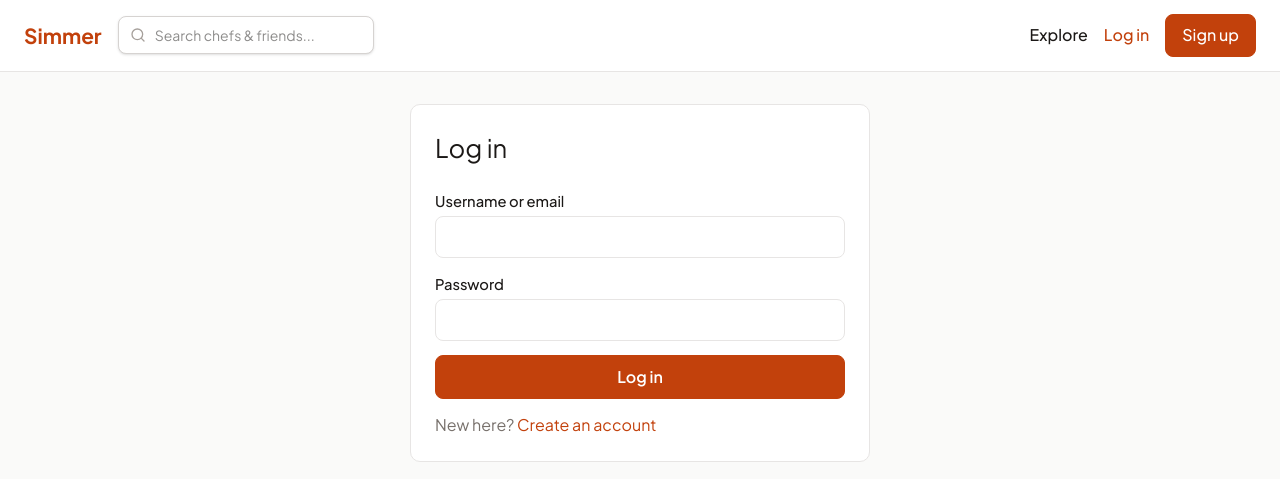
Scenario: authentication › logs in using a username, stores the token and opens My Recipes
In the field labelled "Username or email": (640, 237) [435,216,845,258], type "ana"
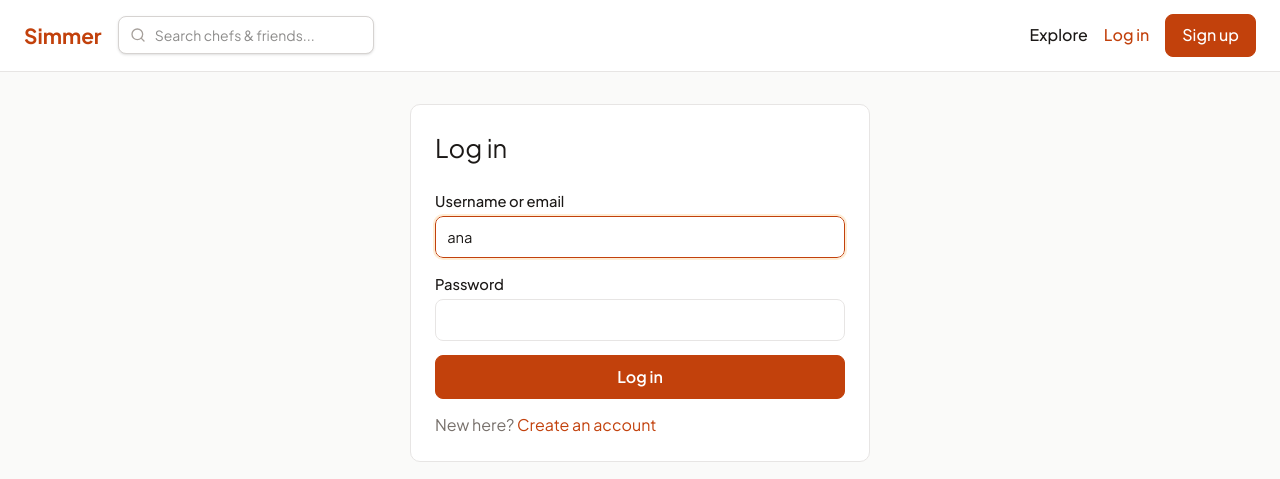
In the password field labelled "Password": (640, 320) [435,299,845,341], type "password123"
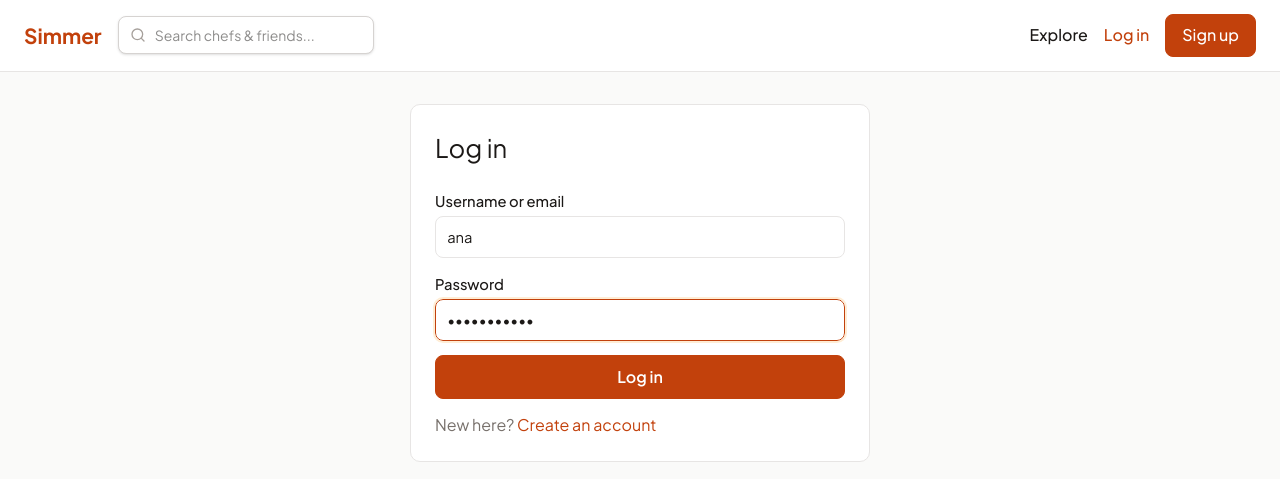
Click the button "Log in": (640, 377) [435,355,845,399]
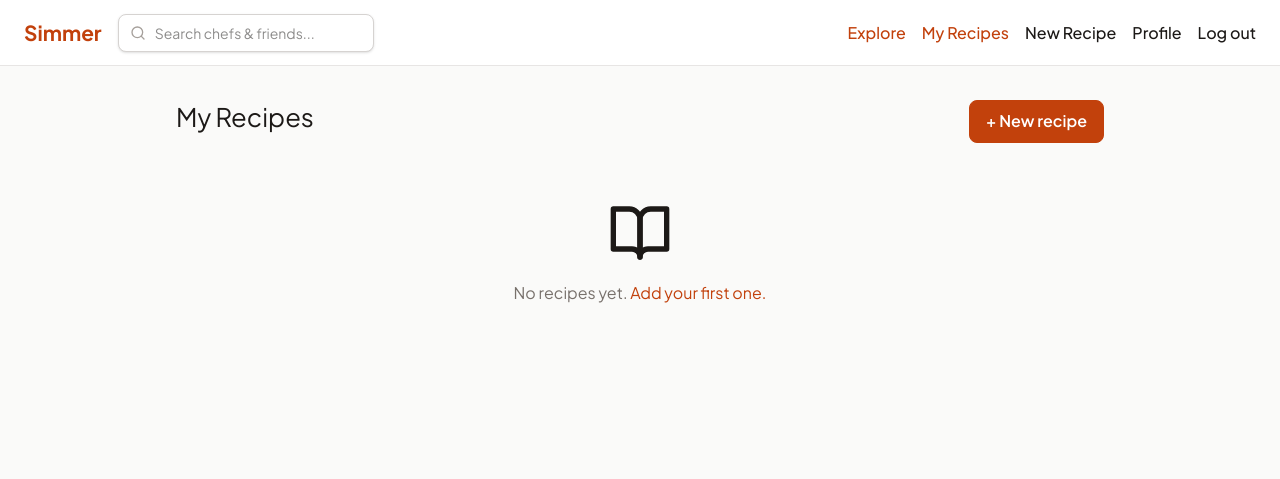
Expected: the heading "My Recipes" is shown, [176,98,314,137]
Expected: the text "No recipes yet." is shown, [514,282,630,303]
